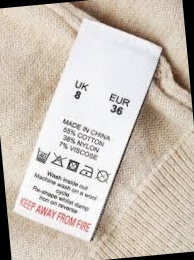DN_bleach: (51, 150, 65, 169)
DN_dry_clean: (95, 167, 113, 185)
DN_tumble_dry: (66, 157, 81, 175)
iron_low: (78, 162, 95, 180)
machine_wash: (34, 143, 52, 167)
